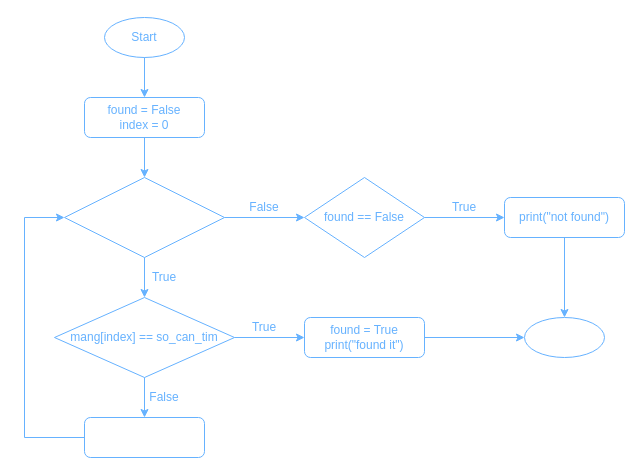
This 642x475 diagram has some shape labels left out. Here are the shapes that lost their labels. From the top down, the box of each, then its label:
(64, 176, 224, 258): index < len(mang)
(524, 316, 604, 358): Stop
(84, 416, 204, 458): index += 1
